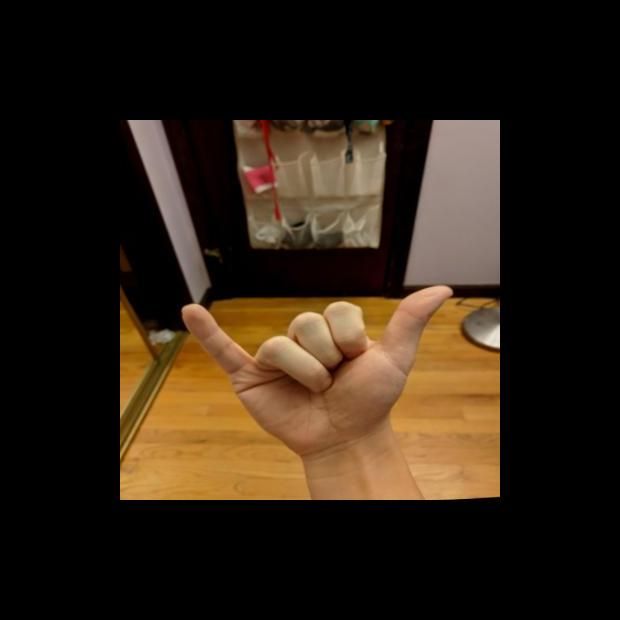X: (176, 283, 465, 463)
